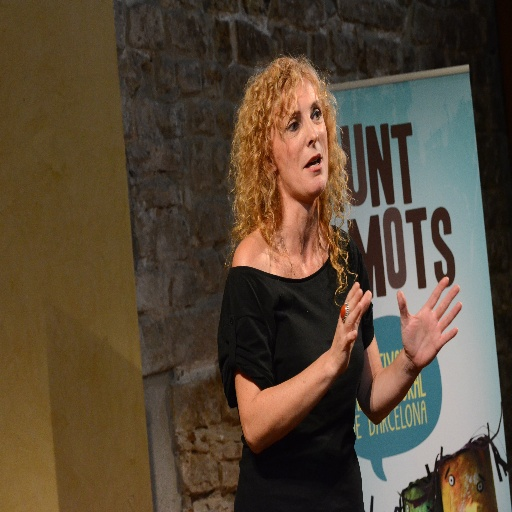hand: (394, 276, 462, 371), (330, 280, 372, 375)
